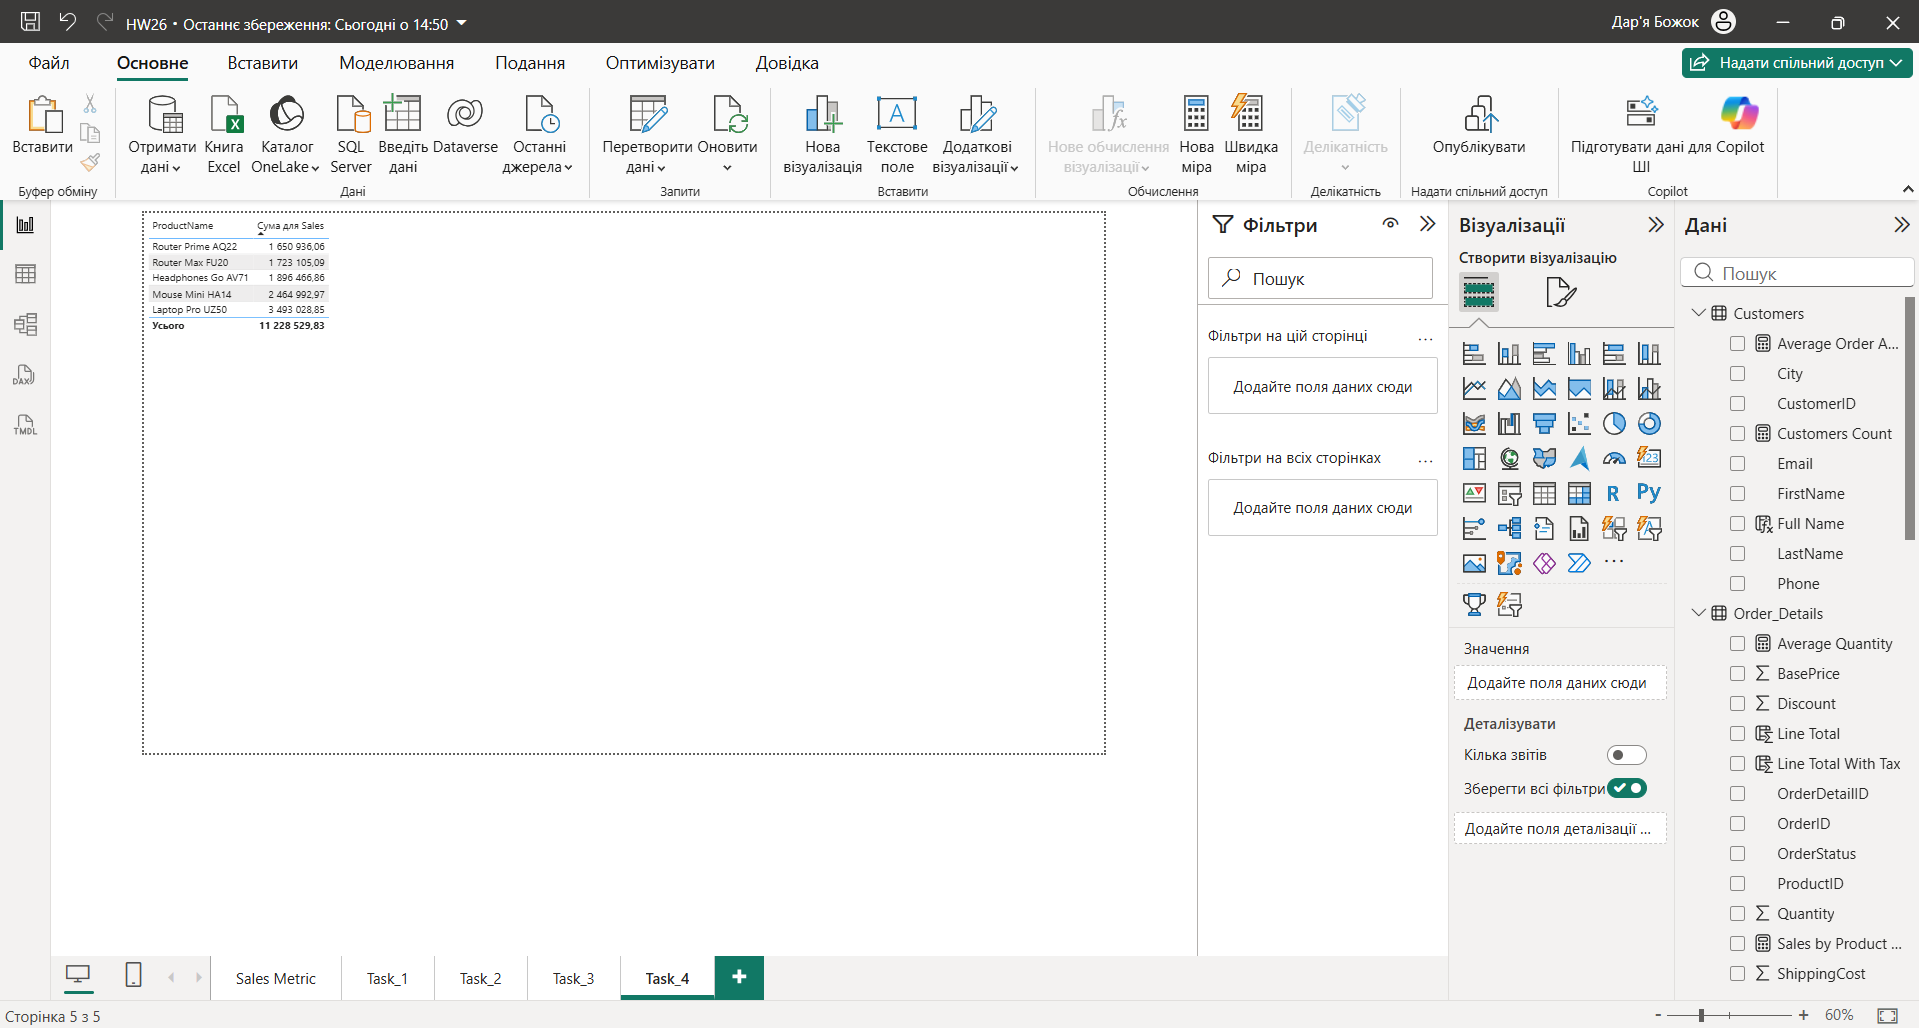

The dashboard page shown, as its layout file describes it:
{"tool":"powerbi","page":{"name":"Task_4","canvas":[1280,720],"ordinal":4},"visuals":[{"type":"tableEx","fields":{"Values":["Top 5 Products.ProductName","Sum(Top 5 Products.Sales)"]},"box":[0,0,1280,720],"z":0}]}

Visuals, with their boxes on the page's 1280x720 design canvas (x1, y1, x2, y2). These are canvas units, not pixel positions in the 1919x1028 screenshot, which may show the page scaled, cropped or inside an application window:
tableEx - Top 5 Products.ProductName x Sum(Top 5 Products.Sales): region(0, 0, 1280, 720)
